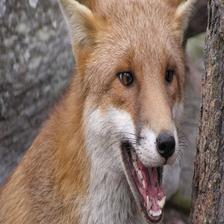fox: (2, 3, 224, 224)
